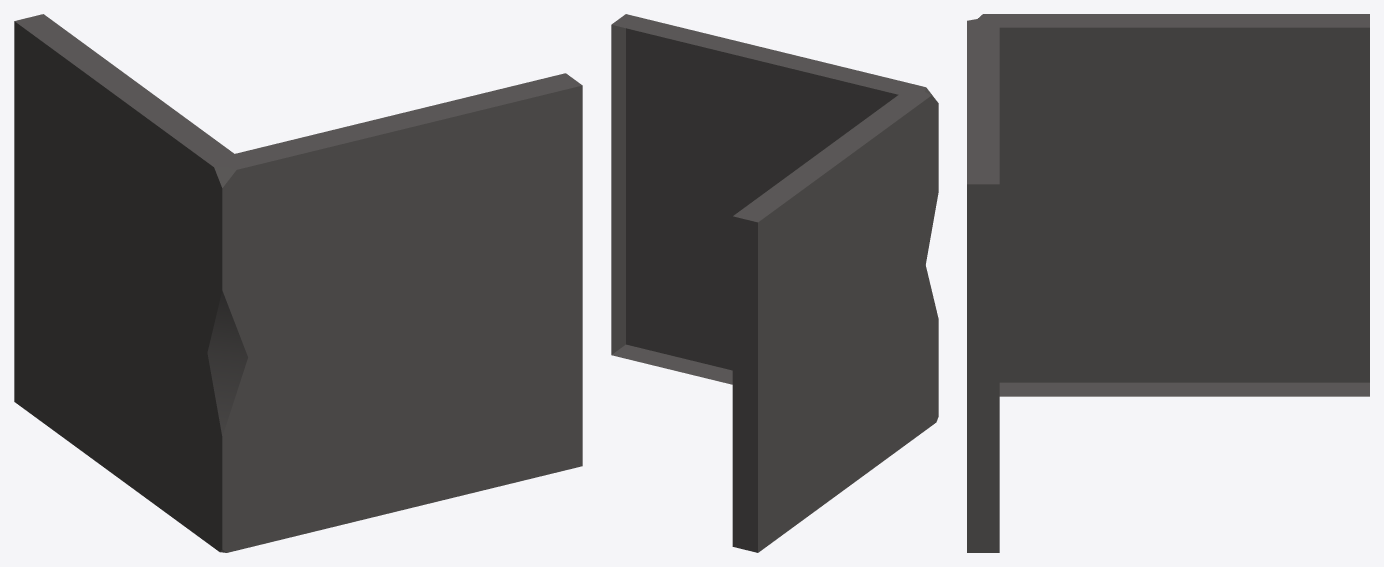
Rendered from SM_Env_Wall_37.fbx.
3 renders of one model, left to right at view 1: azimuth 30°, elevation 25°; view 2: azimuth 150°, elevation 25°; view 3: azimuth 270°, elevation 25°, orthographic. The views are drawn at different scales.
Parts seen in each view (by area): view 1: SM_Env_Wall_37; view 2: SM_Env_Wall_37; view 3: SM_Env_Wall_37.
Boxes of the visible parts, x1,y1,x2,y2 form: SM_Env_Wall_37: [14, 14, 582, 552]; SM_Env_Wall_37: [611, 14, 938, 552]; SM_Env_Wall_37: [967, 14, 1369, 552].
Size of the model in its own units: 141 by 142 by 141.
Materials: 1 (1 with a texture image).
